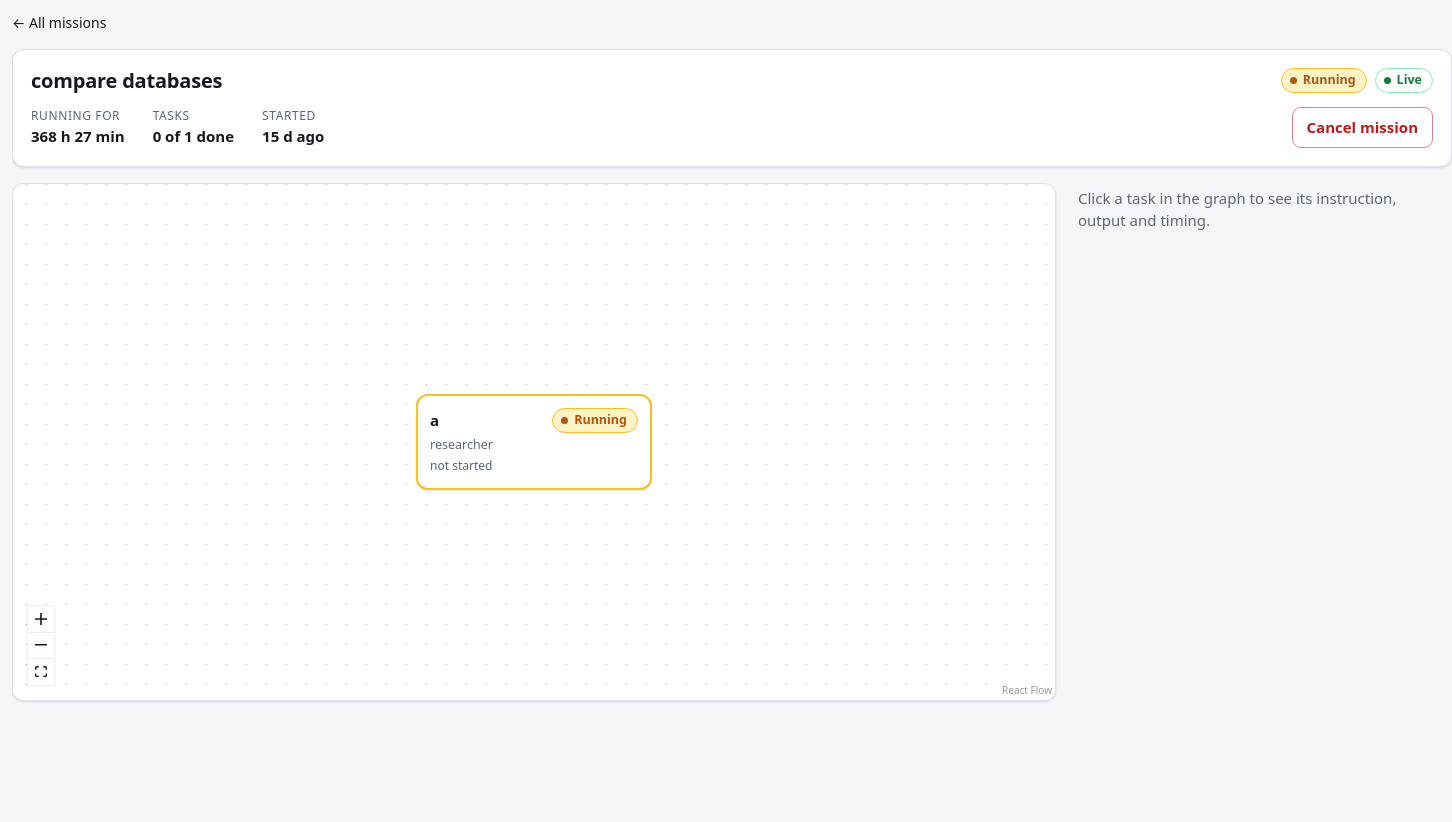
Test: MissionView: cancelling › shows a generic message for an unexpected failure
The width and height of the screenshot is (1452, 822).
Click the button "Cancel mission": (1362, 127) [1292, 107, 1433, 148]
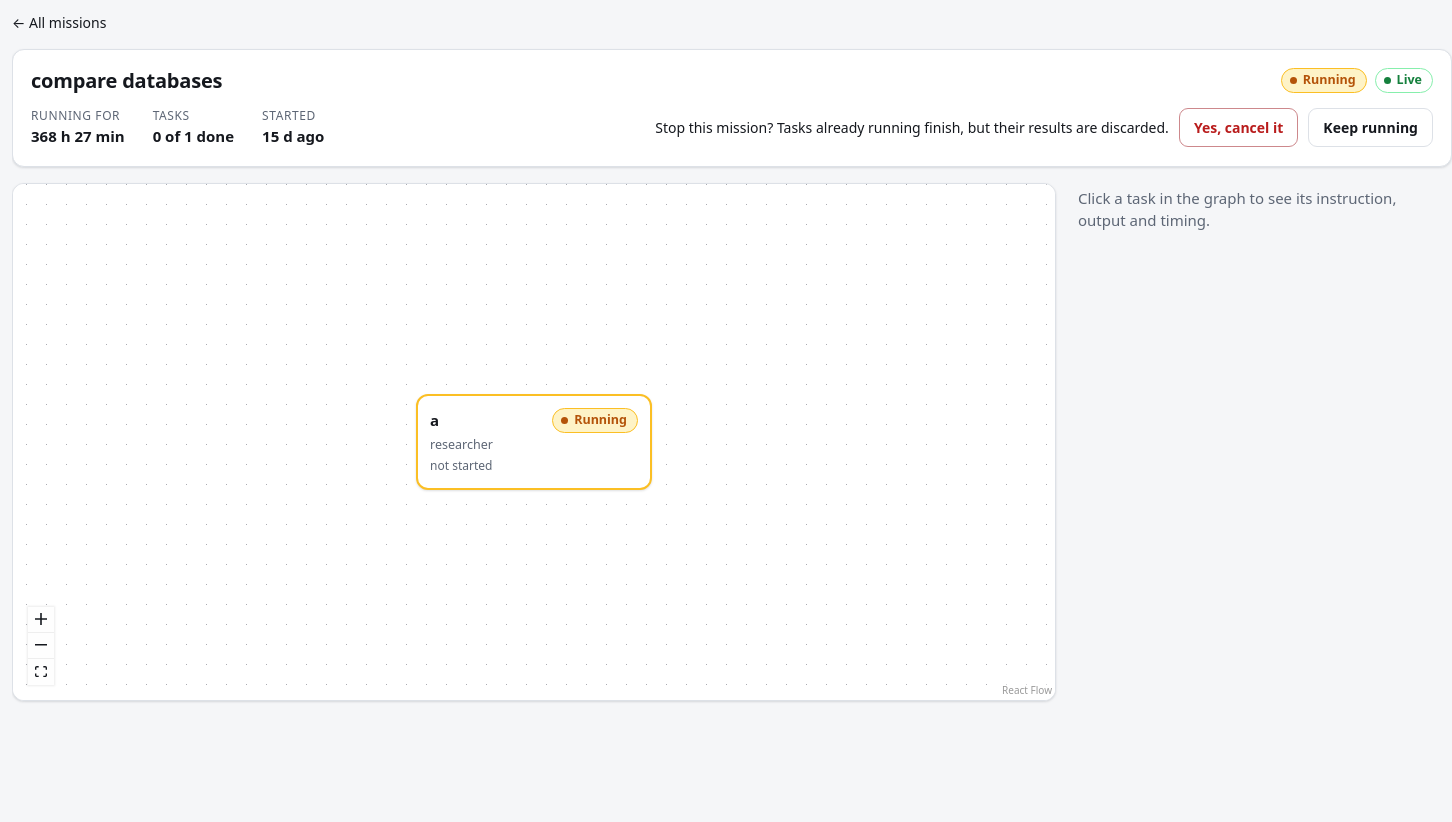
Click the button "Yes, cancel it": (1239, 127) [1179, 108, 1298, 147]
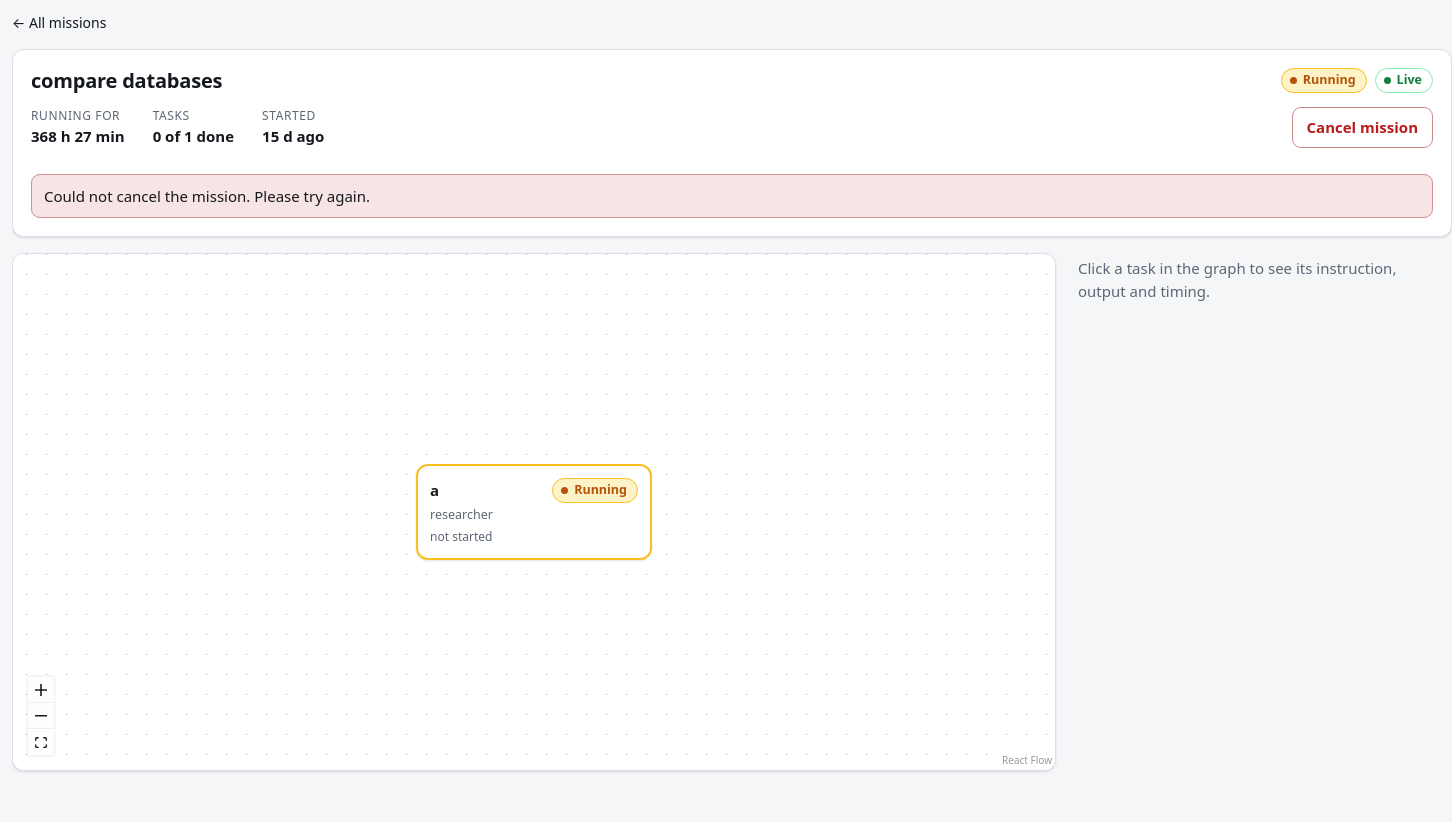
Now the message "Could not cancel the mission. Please try again." is shown, box [31, 174, 1433, 218]
